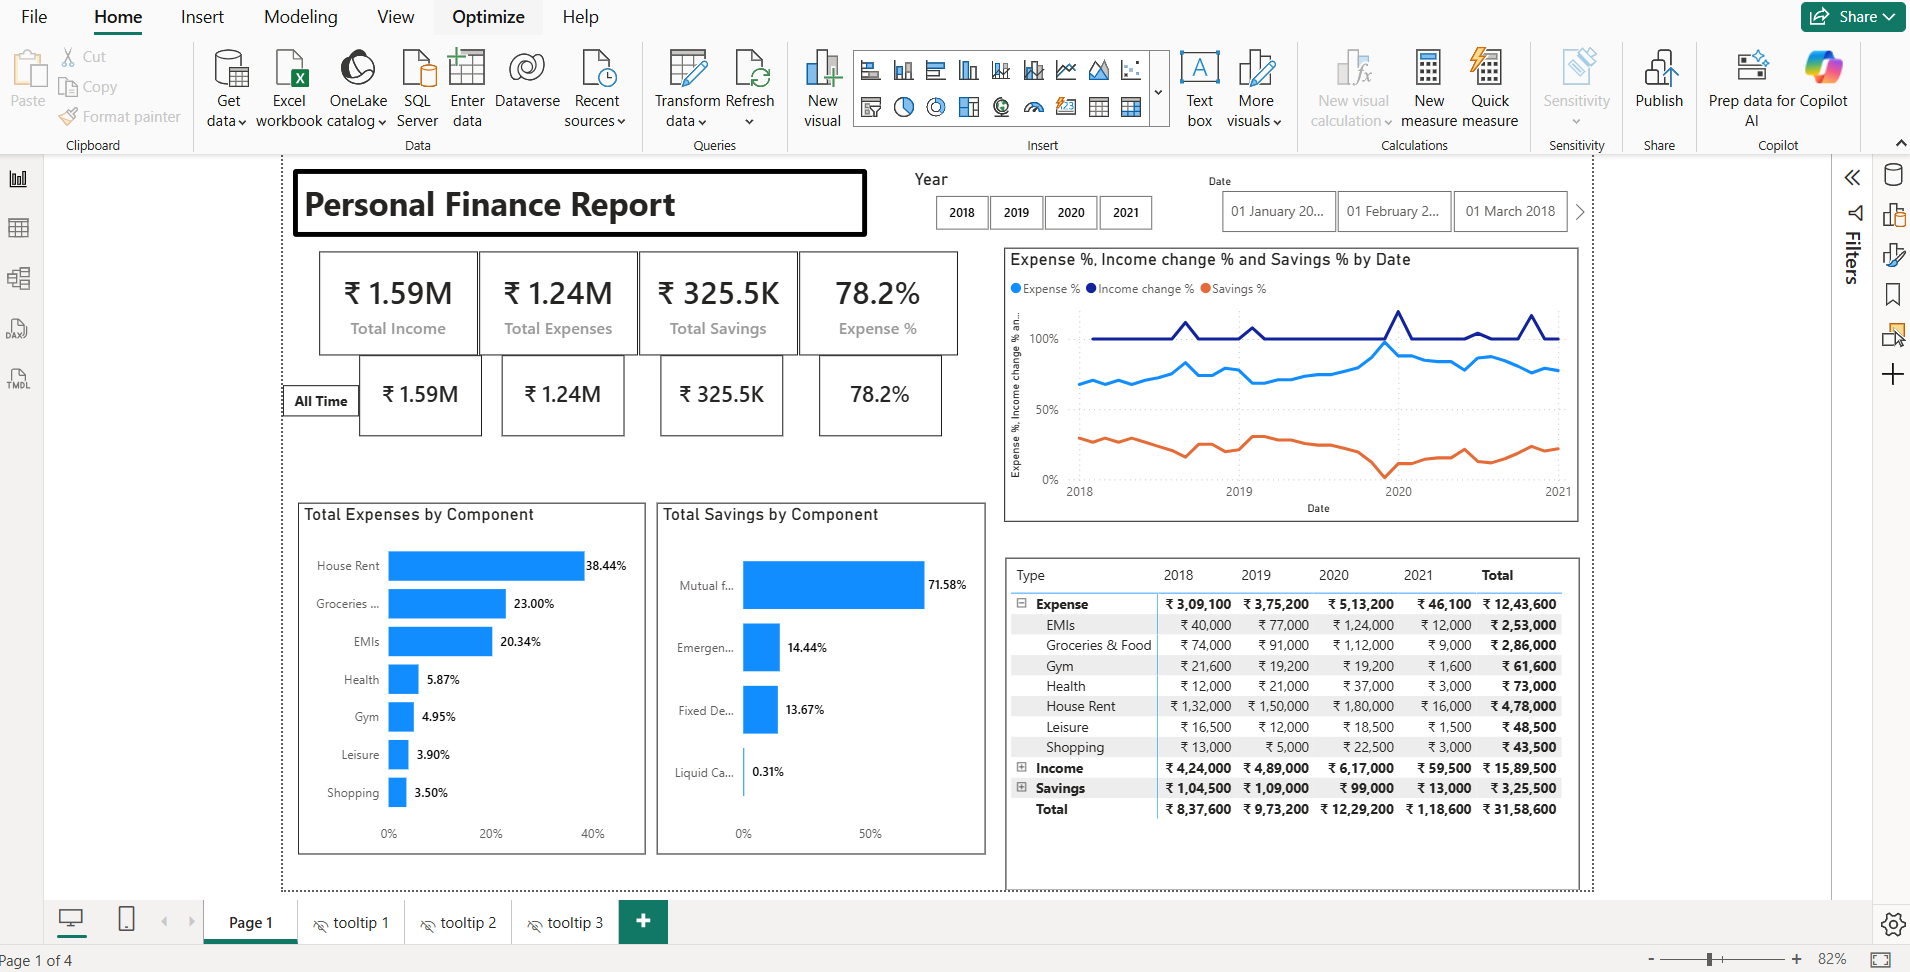

The dashboard page shown, as its layout file describes it:
{"tool":"powerbi","page":{"name":"Page 1","canvas":[1280,720],"ordinal":0},"visuals":[{"type":"card","title":"Total Income","fields":{"Values":["Base Measures.Total Income"]},"box":[35.5,95.4,155.3,101.5],"z":0},{"type":"card","title":"Total Income","fields":{"Values":["Base Measures.Total expenses"]},"box":[192,95.4,155.3,101.5],"z":1000},{"type":"card","title":"Total Income","fields":{"Values":["Base Measures.Total Savings"]},"box":[348.5,95.4,155.3,101.5],"z":2000},{"type":"card","title":"Total Income","fields":{"Values":["Base Measures.Expense %"]},"box":[505,95.4,155.3,101.5],"z":3000},{"type":"slicer","title":"Year","fields":{"Values":["FinData.Date.Variation.Date Hierarchy.Year"]},"box":[612.6,14.7,261.7,66],"z":4000},{"type":"slicer","fields":{"Values":["FinData.Date"]},"box":[892.7,14.7,387.6,68.5],"z":5000},{"type":"card","title":"Total Income","fields":{"Values":["Base Measures.Total Income"]},"box":[74.6,196.9,119.8,79.5],"z":6000},{"type":"card","title":"Total Income","fields":{"Values":["Base Measures.Total expenses"]},"box":[214,196.9,119.8,79.5],"z":7000},{"type":"card","title":"Total Income","fields":{"Values":["Base Measures.Total Savings"]},"box":[369.3,196.9,119.8,79.5],"z":8000},{"type":"card","title":"Total Income","fields":{"Values":["Base Measures.Expense %"]},"box":[524.6,196.9,119.8,79.5],"z":9000},{"type":"textbox","box":[0,226.2,74.6,30.6],"z":10000},{"type":"barChart","title":"Total Expenses by Component","fields":{"Y":["Base Measures.Total Expenses"],"Category":["FinData.Component"]},"box":[14.7,341.2,339.9,343.6],"z":11000},{"type":"barChart","title":"Total Savings by Component","fields":{"Category":["FinData.Component"],"Y":["Base Measures.Total Savings"]},"box":[365.6,341.2,321.6,343.6],"z":12000},{"type":"lineChart","fields":{"Y":["Base Measures.Expense %","Base Measures.Income change %","Base Measures.Savings %"],"Category":["FinData.Date"]},"box":[705.6,91.7,561.3,267.8],"z":13000},{"type":"pivotTable","fields":{"Columns":["FinData.Date.Variation.Date Hierarchy.Year"],"Rows":["FinData.Type","FinData.Component"],"Values":["Base Measures.values"]},"box":[706.8,395,561.3,325.3],"z":14000},{"type":"textbox","box":[9.8,14.7,561.3,66],"z":15000}]}

Visuals, with their boxes on the page's 1280x720 design canvas (x1, y1, x2, y2). These are canvas units, not pixel positions in the 1910x972 screenshot, which may show the page scaled, cropped or inside an application window:
"Total Income" card: crop(36, 95, 191, 197)
"Total Income" card: crop(192, 95, 347, 197)
"Total Income" card: crop(348, 95, 504, 197)
"Total Income" card: crop(505, 95, 660, 197)
"Year" slicer: crop(613, 15, 874, 81)
slicer - FinData.Date: crop(893, 15, 1280, 83)
"Total Income" card: crop(75, 197, 194, 276)
"Total Income" card: crop(214, 197, 334, 276)
"Total Income" card: crop(369, 197, 489, 276)
"Total Income" card: crop(525, 197, 644, 276)
textbox: crop(0, 226, 75, 257)
"Total Expenses by Component" barChart: crop(15, 341, 355, 685)
"Total Savings by Component" barChart: crop(366, 341, 687, 685)
lineChart - Base Measures.Expense % x Base Measures.Income change %: crop(706, 92, 1267, 360)
pivotTable - FinData.Date.Variation.Date Hierarchy.Year x FinData.Type: crop(707, 395, 1268, 720)
textbox: crop(10, 15, 571, 81)
